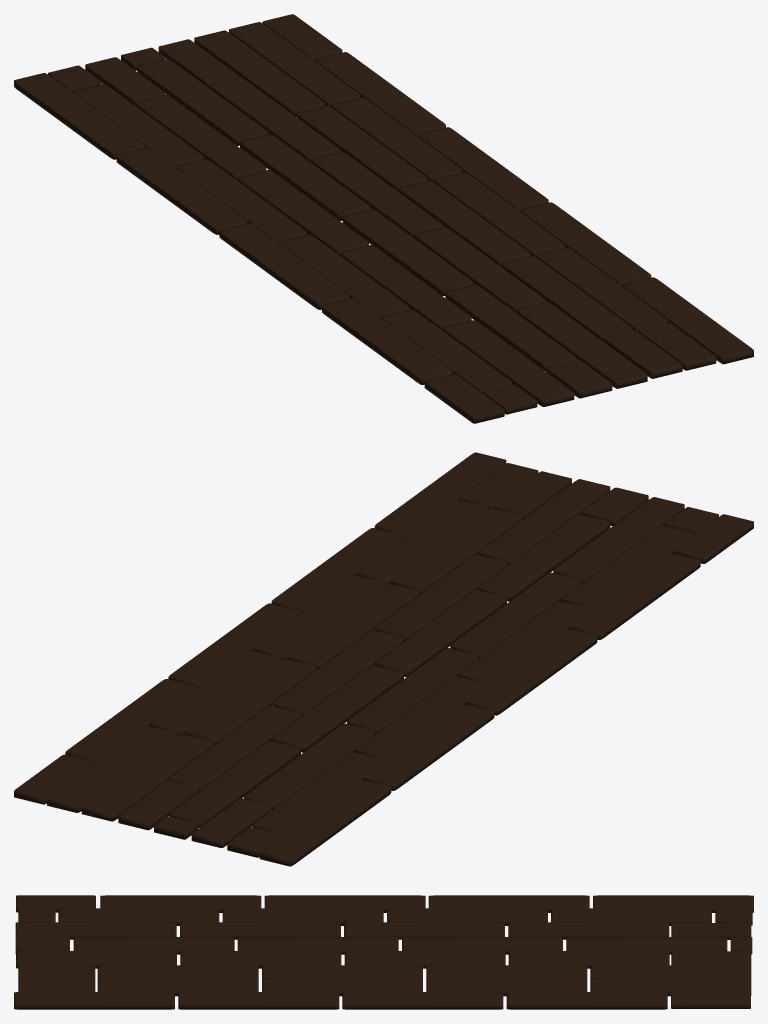
The model's file is woodplank.fbx.
3 views of the same model, one above another, from view 1: azimuth 30°, elevation 25°; view 2: azimuth 150°, elevation 25°; view 3: azimuth 270°, elevation 25° (orthographic). The views are drawn at different scales.
Parts seen in each view (by area): view 1: woodplacnk; view 2: woodplacnk; view 3: woodplacnk.
Part boxes in pixels (x1,y1,x2,y2): woodplacnk: (14,14,753,423); woodplacnk: (14,452,753,866); woodplacnk: (14,895,753,1009).
Bounding box in the file's own units: 199 × 4.69 × 568.
